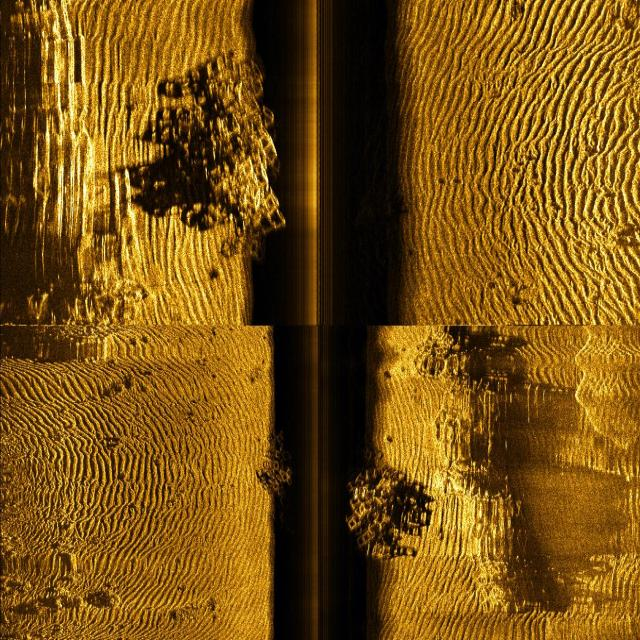artificial reef: (169, 52, 304, 272), (341, 426, 421, 560), (252, 406, 300, 498)
